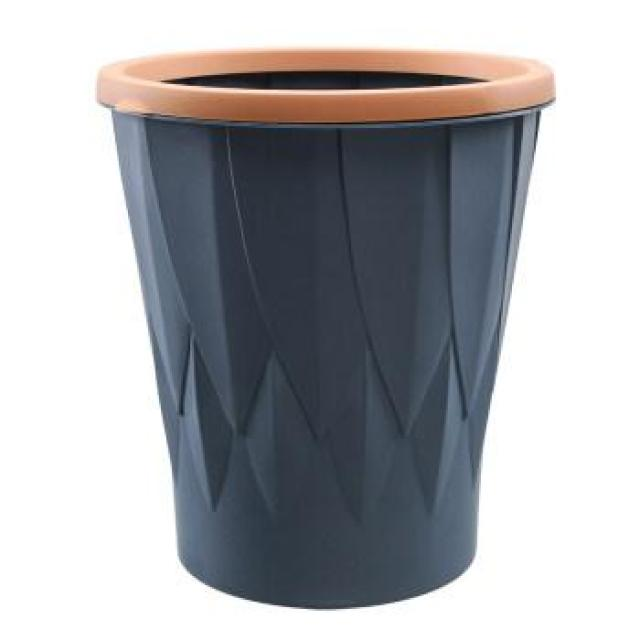dustbin: (90, 36, 564, 618)
